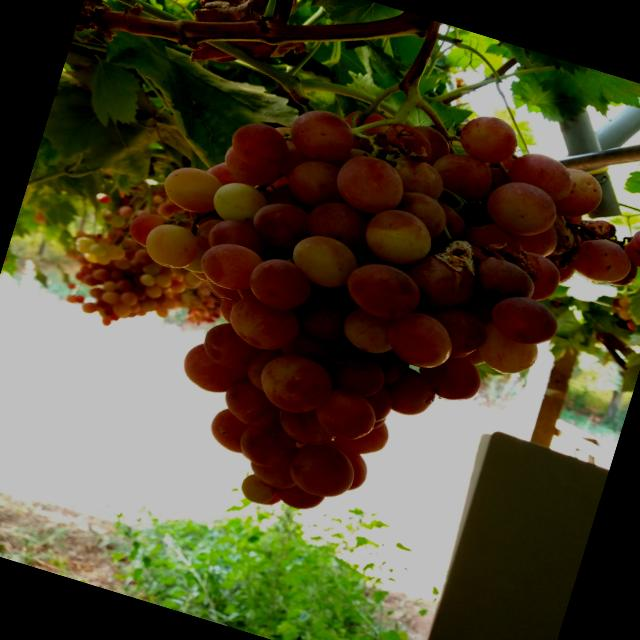grapes: (252, 346, 340, 423), (340, 256, 427, 328), (329, 148, 412, 222), (358, 200, 441, 274), (380, 304, 460, 377), (481, 174, 564, 244), (398, 248, 478, 318), (283, 434, 362, 504), (240, 250, 318, 318), (280, 102, 360, 168), (222, 293, 304, 357), (482, 288, 566, 350), (287, 228, 360, 291), (192, 235, 264, 298), (308, 384, 380, 446), (178, 341, 252, 401), (421, 300, 494, 360), (454, 108, 525, 168), (426, 148, 498, 207), (470, 321, 541, 380), (468, 250, 540, 308), (416, 349, 486, 408), (225, 116, 294, 174), (218, 375, 286, 432), (506, 148, 576, 202), (572, 232, 638, 288), (196, 315, 262, 371), (326, 406, 394, 460), (235, 412, 298, 470), (139, 216, 204, 272), (551, 166, 610, 227), (390, 187, 453, 244), (379, 364, 442, 421), (301, 195, 370, 247), (208, 176, 272, 232), (159, 160, 223, 216), (324, 350, 390, 404), (282, 152, 342, 210), (294, 288, 355, 345), (248, 194, 311, 249), (506, 247, 566, 304), (206, 212, 273, 262), (338, 306, 397, 359), (385, 152, 447, 198), (220, 147, 282, 190), (462, 220, 528, 260), (274, 403, 330, 447), (204, 405, 254, 454), (514, 217, 564, 260), (340, 104, 390, 144), (273, 480, 326, 516), (246, 460, 302, 494), (240, 340, 276, 390), (288, 329, 336, 366), (404, 122, 450, 160), (125, 208, 167, 249), (237, 470, 280, 509), (334, 450, 371, 492), (430, 200, 471, 237), (204, 156, 248, 188), (618, 222, 640, 276), (608, 258, 640, 292), (362, 386, 394, 419), (192, 213, 220, 240), (211, 296, 238, 321)
